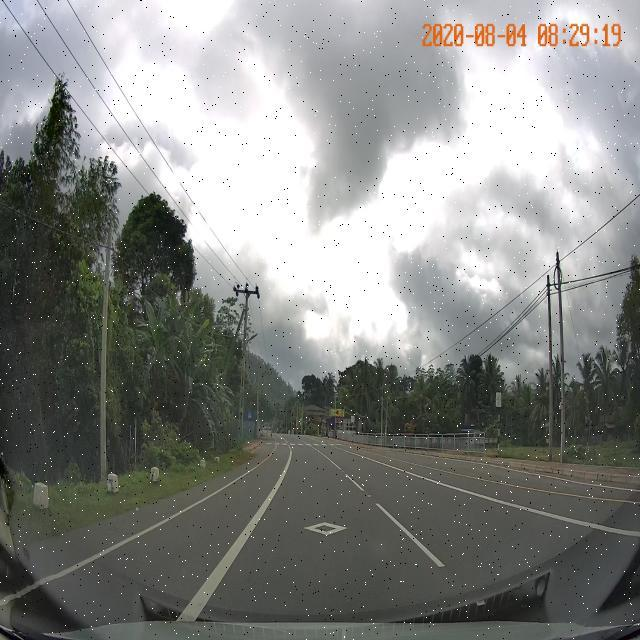diamond: (227, 499, 426, 545)
